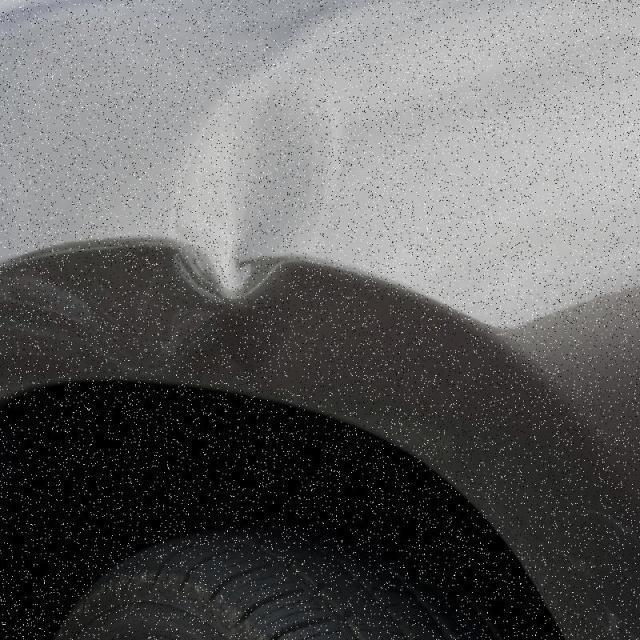dent: (164, 97, 328, 334)
